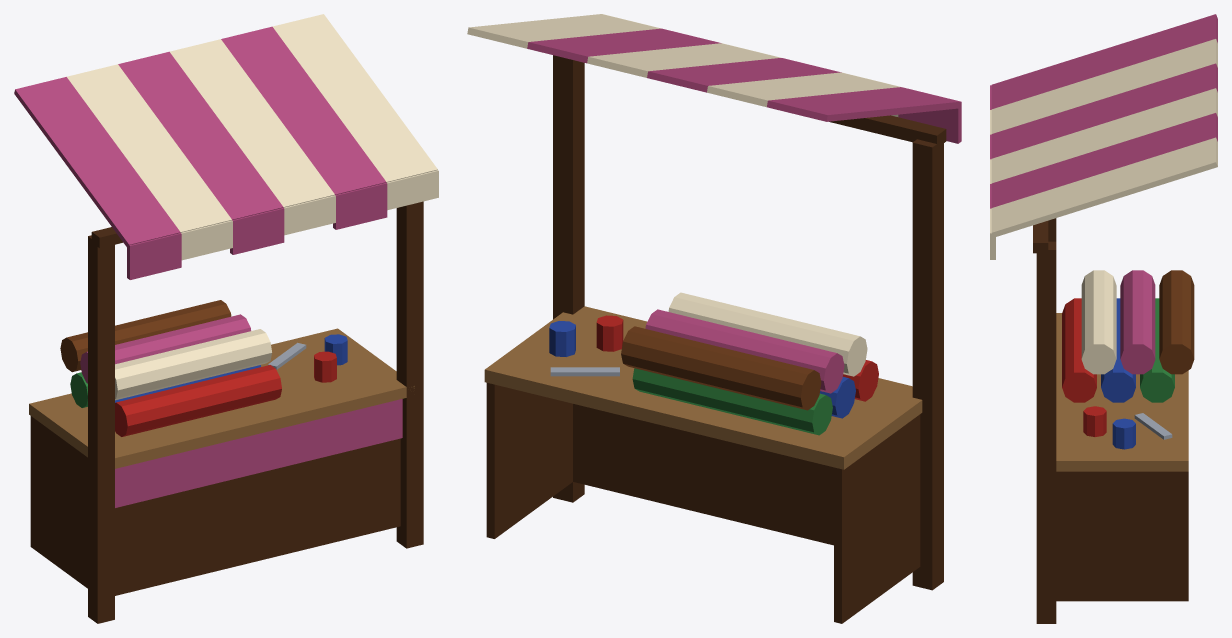
Rendered from shop_tailor_stall.gltf.
3 views of the same model, side by side, from view 1: azimuth 30°, elevation 25°; view 2: azimuth 150°, elevation 25°; view 3: azimuth 270°, elevation 25° (orthographic). The views are drawn at different scales.
Visible parts, largest first — view 1: ShopTailorStallShopWood, ShopTailorStallShopCloth, ShopTailorStallShopCream, ShopTailorStallShopWoodLight, ShopTailorStallShopRed, ShopTailorStallShopLeather, ShopTailorStallShopBlue; view 2: ShopTailorStallShopWood, ShopTailorStallShopWoodLight, ShopTailorStallShopCloth, ShopTailorStallShopCream, ShopTailorStallShopLeather, ShopTailorStallShopGreen, ShopTailorStallShopRed, ShopTailorStallShopBlue, ShopTailorStallShopSteel; view 3: ShopTailorStallShopWood, ShopTailorStallShopCream, ShopTailorStallShopCloth, ShopTailorStallShopWoodLight, ShopTailorStallShopLeather, ShopTailorStallShopRed, ShopTailorStallShopBlue, ShopTailorStallShopGreen, ShopTailorStallShopSteel.
Part boxes in pixels (x1=…): ShopTailorStallShopWood: x1=30, y1=201, x2=423, y2=623; ShopTailorStallShopCloth: x1=14, y1=26, x2=402, y2=507; ShopTailorStallShopCream: x1=67, y1=14, x2=438, y2=400; ShopTailorStallShopWoodLight: x1=29, y1=328, x2=414, y2=468; ShopTailorStallShopRed: x1=115, y1=351, x2=336, y2=436; ShopTailorStallShopLeather: x1=60, y1=300, x2=231, y2=372; ShopTailorStallShopBlue: x1=115, y1=334, x2=347, y2=402; ShopTailorStallShopWood: x1=486, y1=55, x2=946, y2=623; ShopTailorStallShopWoodLight: x1=484, y1=306, x2=922, y2=469; ShopTailorStallShopCloth: x1=527, y1=28, x2=961, y2=393; ShopTailorStallShopCream: x1=467, y1=14, x2=901, y2=376; ShopTailorStallShopLeather: x1=621, y1=326, x2=821, y2=410; ShopTailorStallShopGreen: x1=632, y1=368, x2=832, y2=435; ShopTailorStallShopRed: x1=596, y1=315, x2=878, y2=401; ShopTailorStallShopBlue: x1=549, y1=321, x2=855, y2=418; ShopTailorStallShopSteel: x1=550, y1=367, x2=619, y2=376; ShopTailorStallShopWood: x1=1033, y1=218, x2=1188, y2=623; ShopTailorStallShopCream: x1=990, y1=39, x2=1217, y2=374; ShopTailorStallShopCloth: x1=990, y1=14, x2=1217, y2=374; ShopTailorStallShopWoodLight: x1=1056, y1=313, x2=1188, y2=471; ShopTailorStallShopLeather: x1=1159, y1=270, x2=1194, y2=374; ShopTailorStallShopRed: x1=1062, y1=298, x2=1106, y2=436; ShopTailorStallShopBlue: x1=1101, y1=298, x2=1135, y2=449; ShopTailorStallShopGreen: x1=1140, y1=298, x2=1174, y2=402; ShopTailorStallShopSteel: x1=1134, y1=413, x2=1172, y2=439.
Size of what is drawn, in the model's own units: 1.9 by 2.59 by 1.17.
